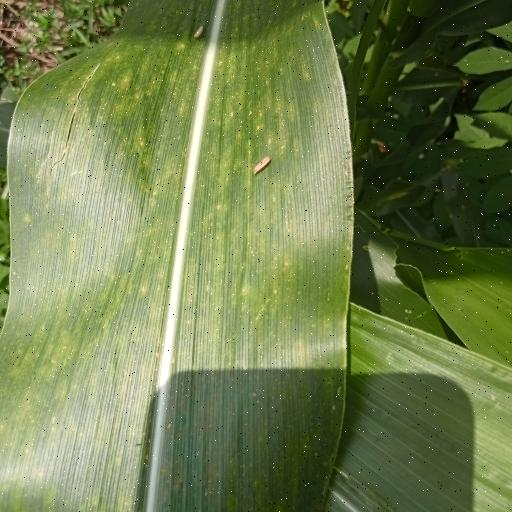Corn_Brown_Spots: (0, 2, 344, 512)
